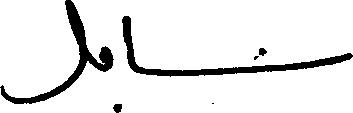X: (0, 0, 85, 108), (124, 11, 136, 77), (102, 41, 112, 76), (339, 48, 352, 67)
